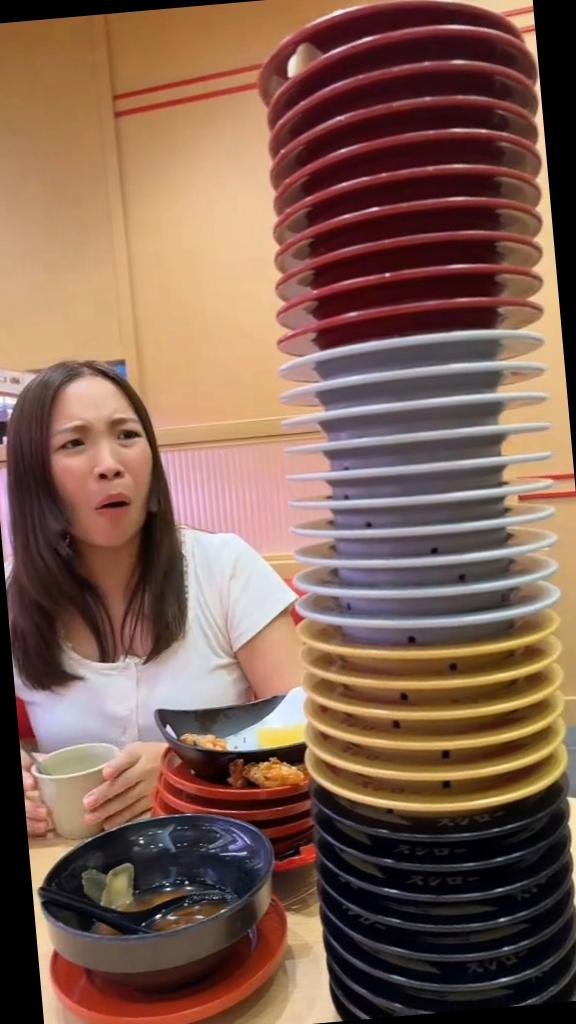Janback: (346, 885, 564, 936), (366, 924, 572, 974), (359, 832, 568, 874), (360, 864, 551, 904), (364, 804, 565, 842), (372, 984, 564, 1018), (379, 961, 559, 995)
Jangold: (340, 658, 556, 706), (356, 718, 551, 764), (354, 692, 546, 732), (358, 750, 546, 786), (360, 638, 540, 674), (370, 776, 540, 812)
Janred: (268, 20, 536, 72), (295, 54, 538, 106), (321, 186, 533, 244), (325, 221, 550, 274), (310, 122, 542, 172), (305, 91, 543, 139), (252, 0, 526, 41), (331, 258, 544, 307), (340, 291, 550, 340), (317, 160, 527, 206)
Janwhite: (321, 416, 555, 468), (304, 326, 556, 374), (338, 566, 569, 612), (315, 448, 542, 494), (326, 507, 552, 553), (311, 390, 558, 432), (320, 481, 552, 525), (312, 360, 566, 398), (334, 544, 552, 582), (349, 603, 514, 646)
